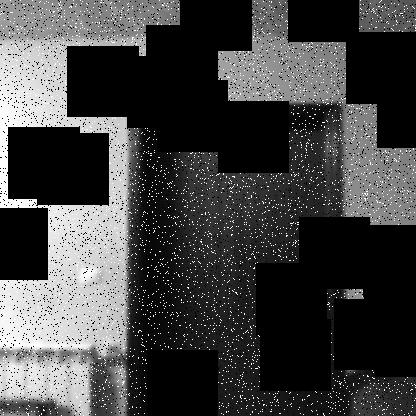Porte: (126, 100, 348, 415)
